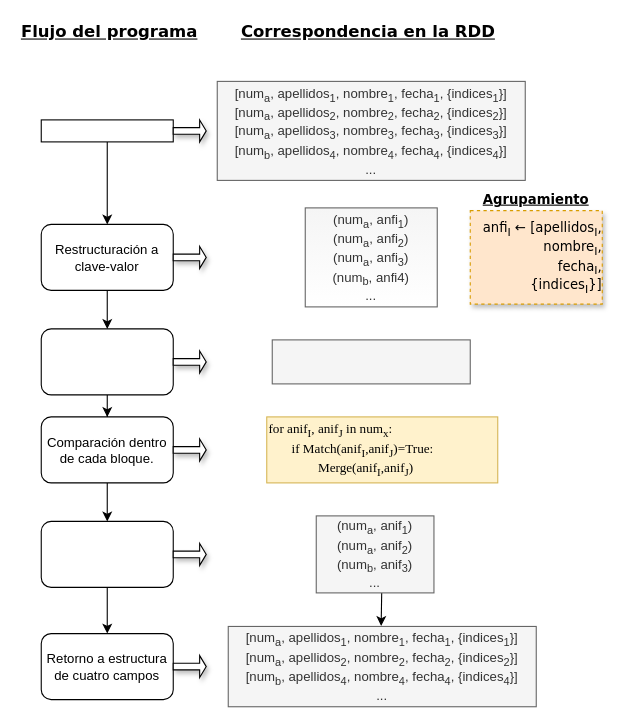
Some shapes in this 628 by 726 pixel diagram are drawn without their labels. Each missing label, with the centre of its shape:
"(num a : anfi 1 , anfi 2 , anfi 3 , ...) (num b : anfi 4 , ...)" goes at (370,361).
"Agrupamiento por clave" goes at (106,361).
"Desagrupamiento por clave" goes at (106,553).
"Lista de registros" goes at (106,130).
